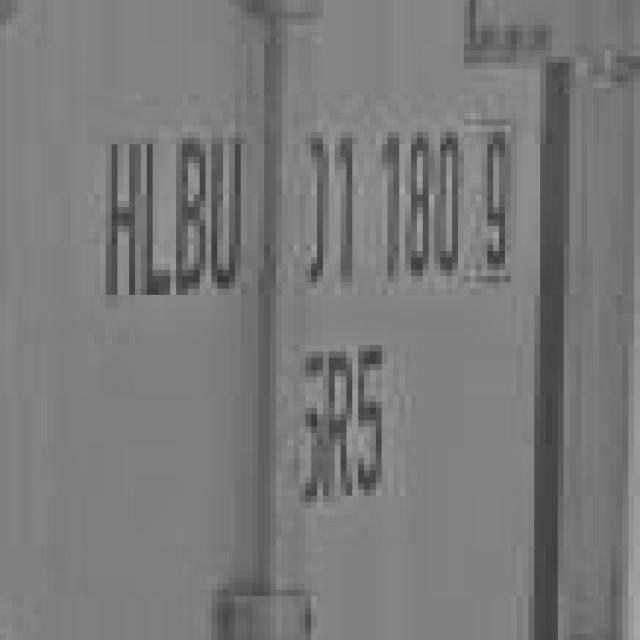dv: (466, 117, 524, 290)
owner: (86, 119, 248, 303)
serial: (289, 123, 467, 299)
size: (282, 336, 404, 509)
